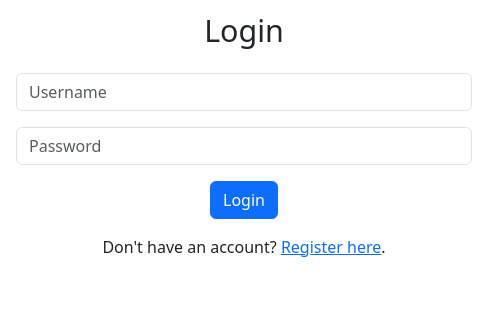
Test case: Login Component › should display error if username or password is empty
Click the button "Login": (244,200) [210,180,278,218]
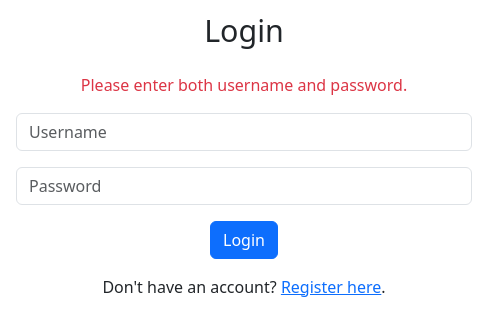
expect the text "Please enter both username and password." is shown: met, box [81,74,407,96]
